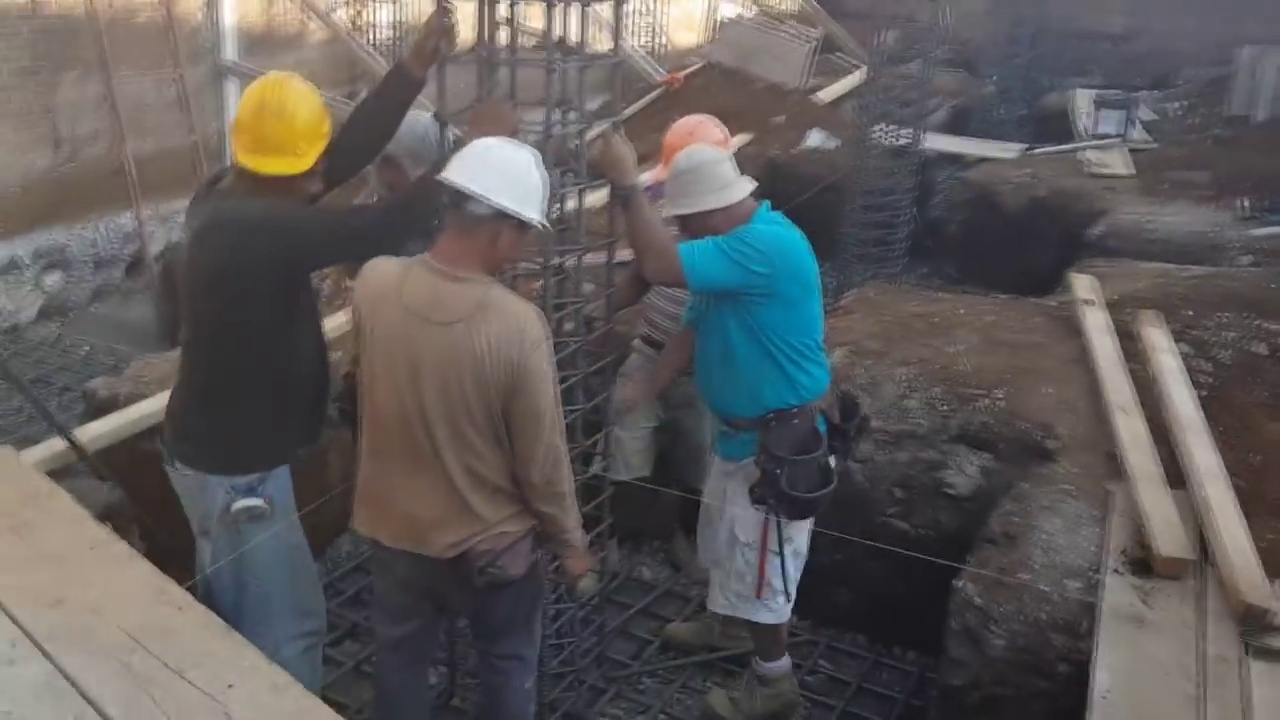helmet: (424, 131, 549, 241), (223, 71, 329, 183), (661, 110, 732, 162)
helmet-off: (658, 116, 765, 238)
helmet-on: (412, 124, 549, 280), (210, 68, 337, 206)
person: (135, 5, 460, 704), (596, 106, 844, 719), (345, 118, 594, 715), (613, 114, 732, 593)
